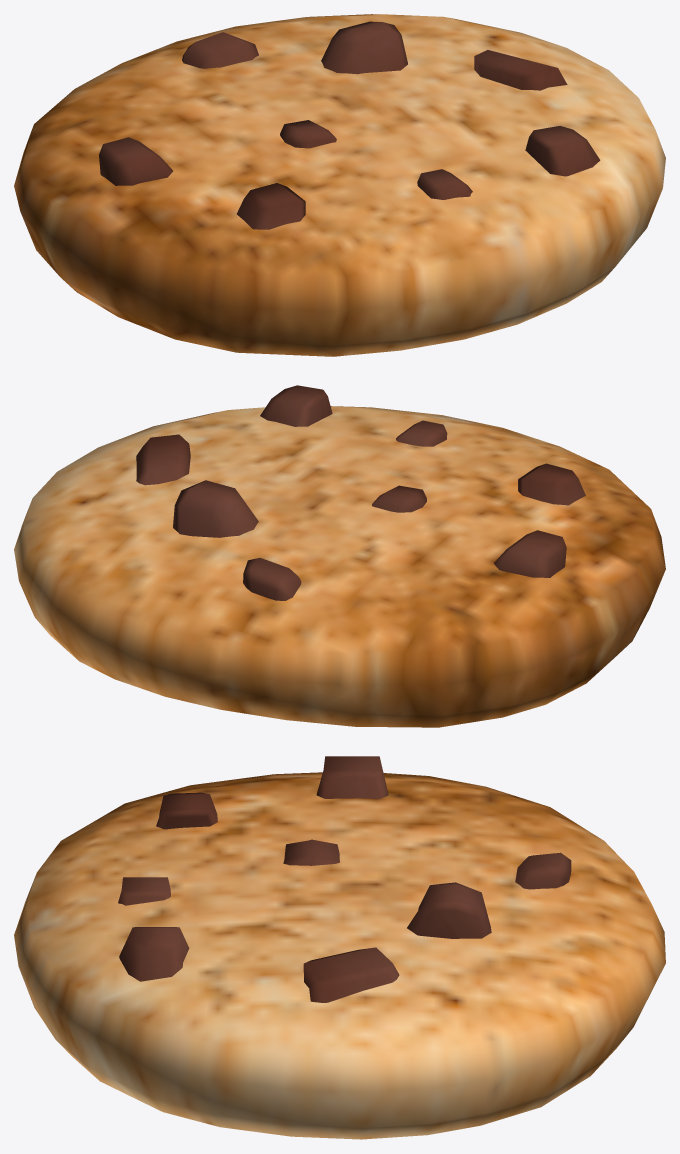
File: Cookies.fbx
3 renders of one model, top to bottom at view 1: azimuth 30°, elevation 25°; view 2: azimuth 150°, elevation 25°; view 3: azimuth 270°, elevation 25°, orthographic. The views are drawn at different scales.
Visible parts, largest first — view 1: Cookies; view 2: Cookies; view 3: Cookies.
Part boxes in pixels (x1,y1,x2,y2): Cookies: [14, 14, 665, 356]; Cookies: [14, 385, 665, 727]; Cookies: [14, 756, 665, 1139].
Size of the model in its own units: 10.76 by 2.73 by 10.
